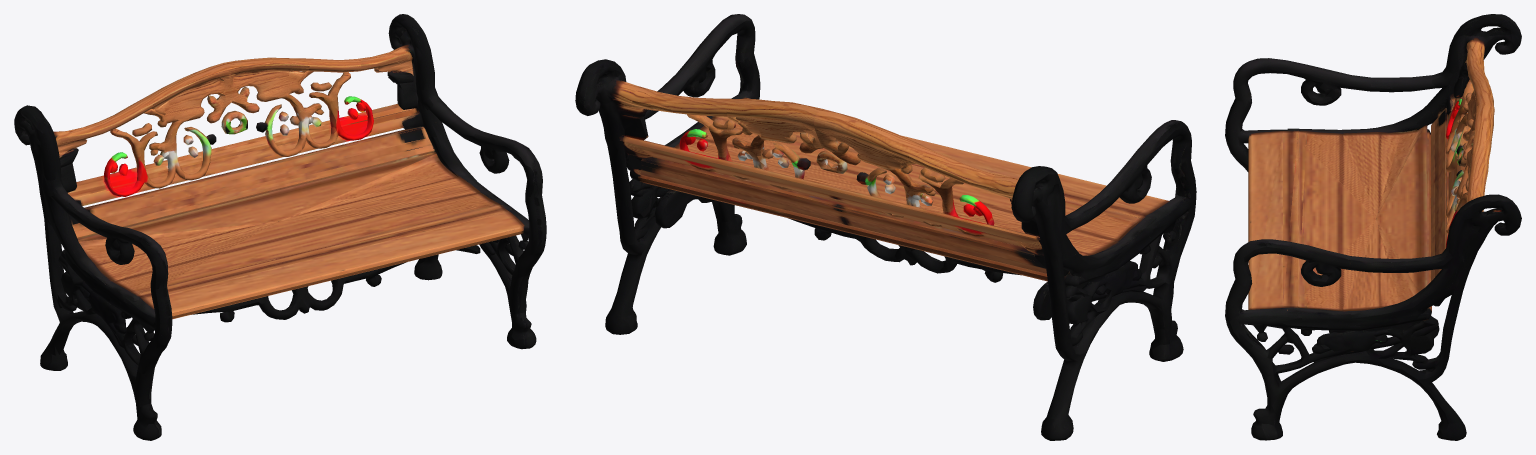
The model's file is hub_park_bench.glb.
3 renders of one model, left to right at view 1: azimuth 30°, elevation 25°; view 2: azimuth 150°, elevation 25°; view 3: azimuth 270°, elevation 25°, orthographic. The views are drawn at different scales.
Size of the model in its own units: 1.9 by 1.12 by 1.24.
1 material, 1 textured.
